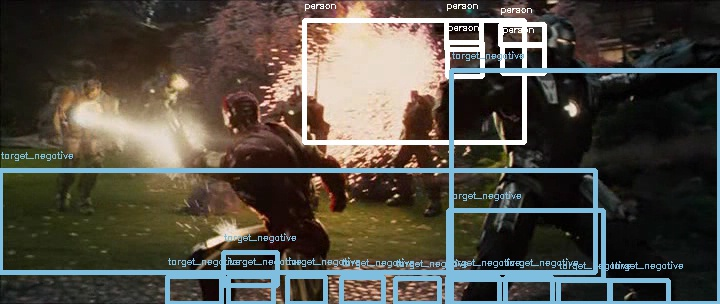person: (218, 87, 257, 136), (217, 87, 256, 136), (219, 87, 258, 136), (218, 86, 257, 135), (218, 88, 257, 137)
target_negative: (23, 201, 336, 249), (374, 82, 427, 242), (559, 144, 645, 211), (575, 226, 680, 262), (625, 123, 676, 168), (334, 133, 338, 294)
